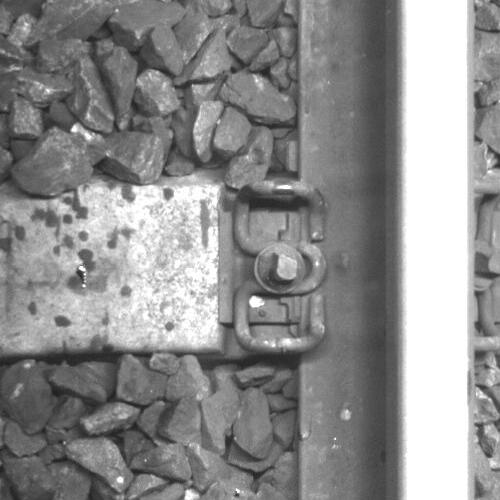rail: (400, 1, 475, 500)
tie_concr: (1, 180, 296, 353)
vossloh: (219, 180, 331, 356)
